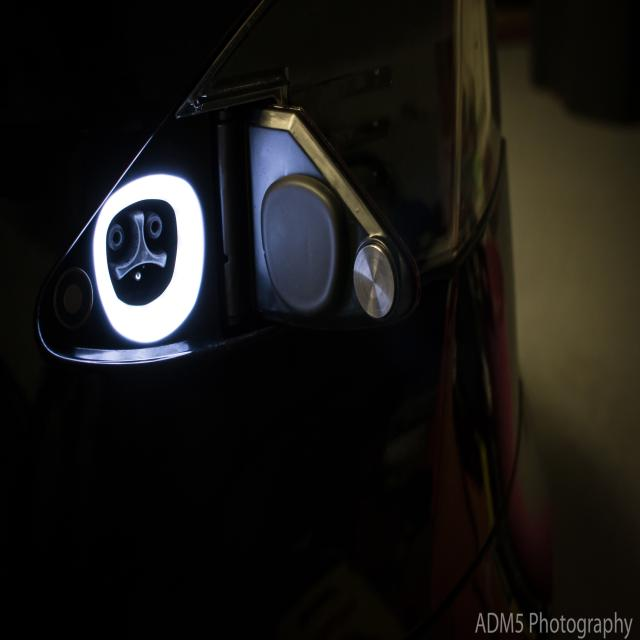Tesla Model-S-: (72, 151, 222, 352)
